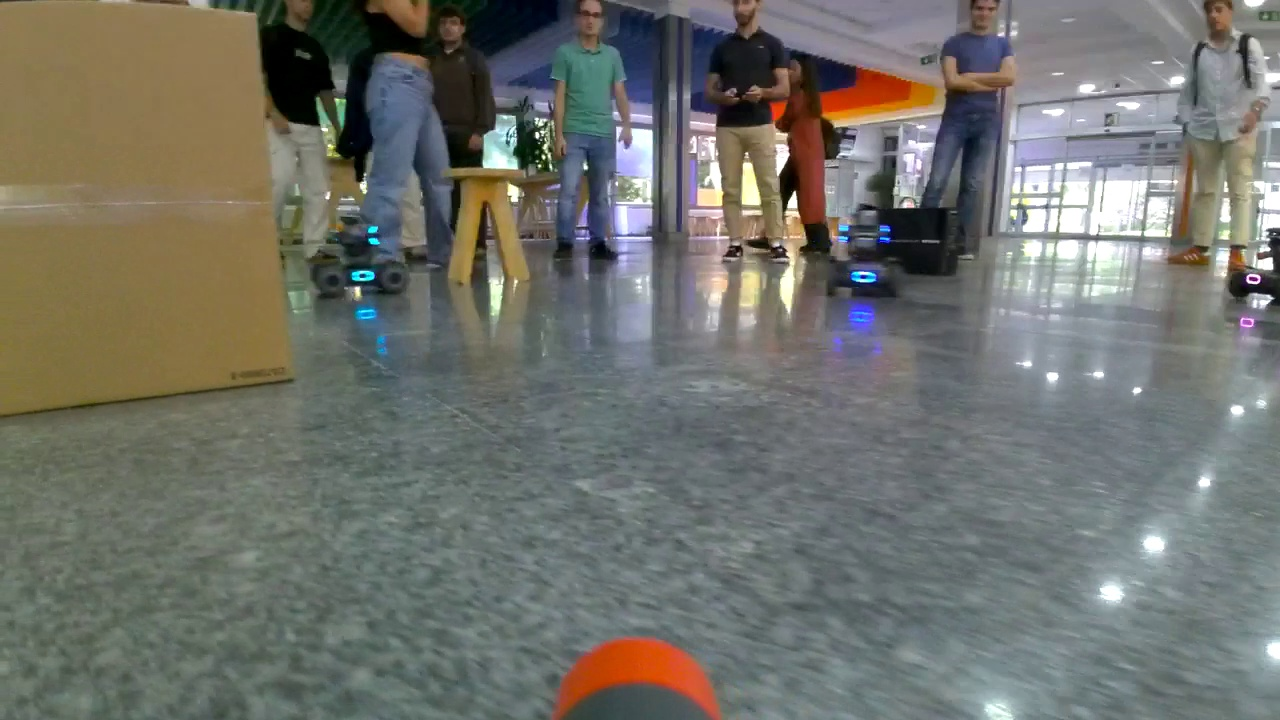robot: (829, 211, 906, 300), (1231, 234, 1279, 300)
